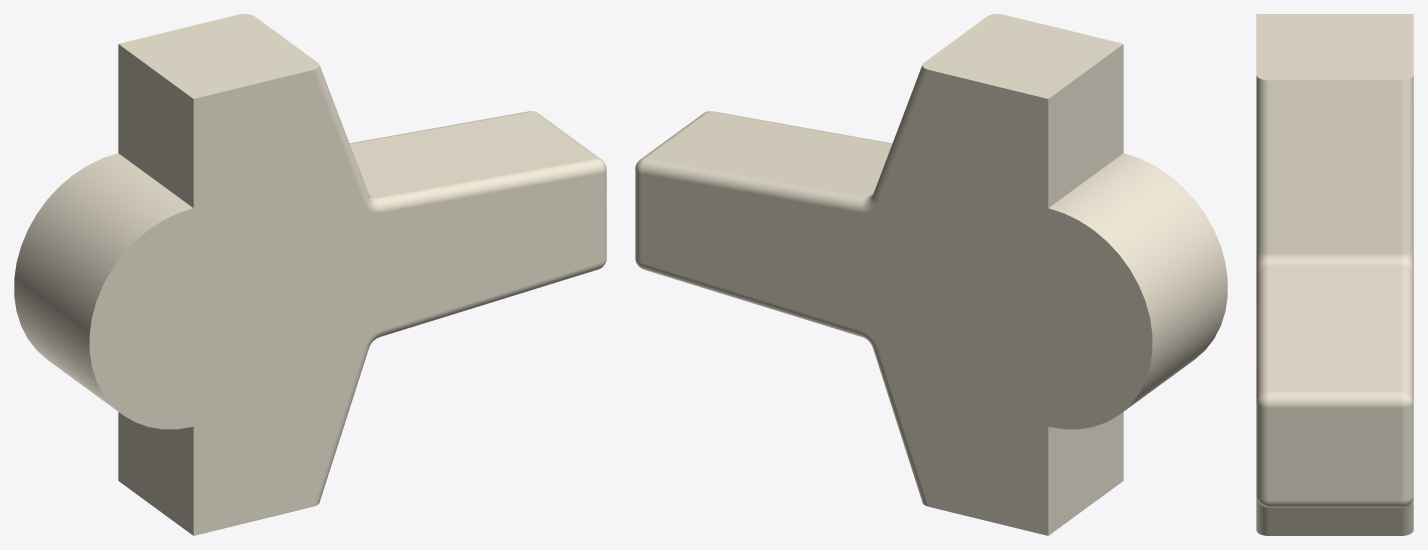
File: switch_toggle.glb
The picture shows the model from 3 angles, left to right: view 1: azimuth 30°, elevation 25°; view 2: azimuth 150°, elevation 25°; view 3: azimuth 270°, elevation 25°; orthographic projection. The views are drawn at different scales.
Size of the model in its own units: 0.05 by 0.04 by 0.0125.
